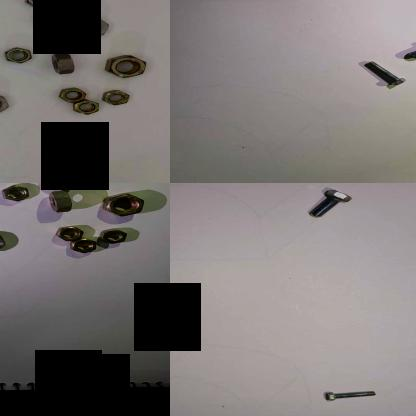Bolts: (306, 185, 358, 220), (358, 60, 412, 88), (320, 386, 380, 404), (404, 35, 416, 61)
NUTS: (101, 52, 150, 80), (102, 191, 148, 217), (34, 5, 76, 29), (41, 29, 83, 52), (72, 14, 110, 38), (47, 188, 75, 214), (100, 87, 138, 105), (50, 50, 76, 76), (2, 44, 34, 64), (0, 183, 31, 203), (72, 98, 102, 116), (68, 237, 98, 255), (98, 228, 127, 244), (60, 87, 90, 101), (54, 226, 84, 240), (20, 0, 56, 10), (0, 230, 10, 255), (0, 93, 10, 115), (43, 183, 78, 188)
